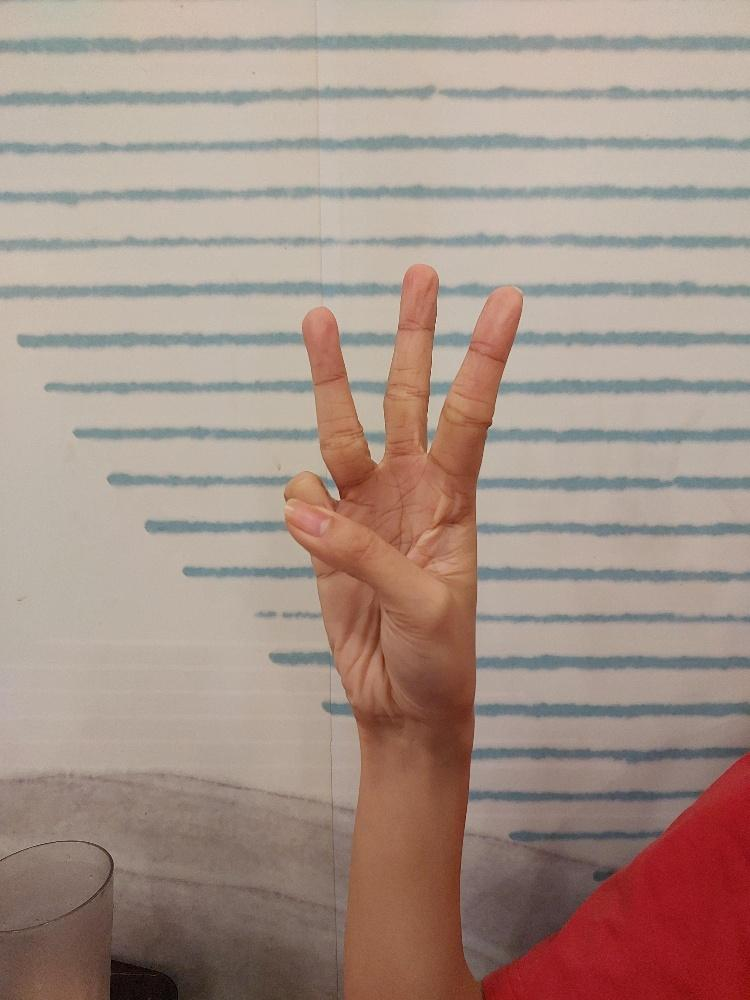w: (280, 260, 525, 726)
